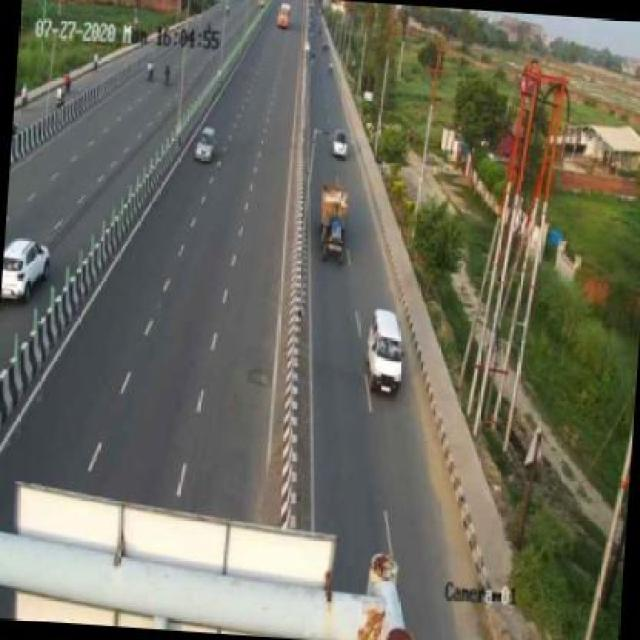car: (358, 298, 412, 402), (3, 237, 54, 308), (192, 122, 226, 163), (328, 125, 354, 158)
